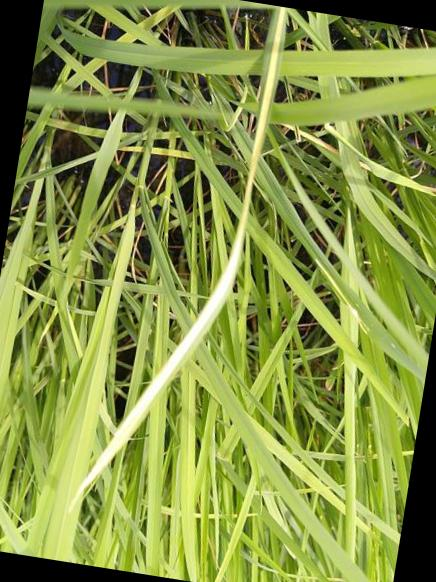Leaf Blight: (69, 6, 286, 510)
